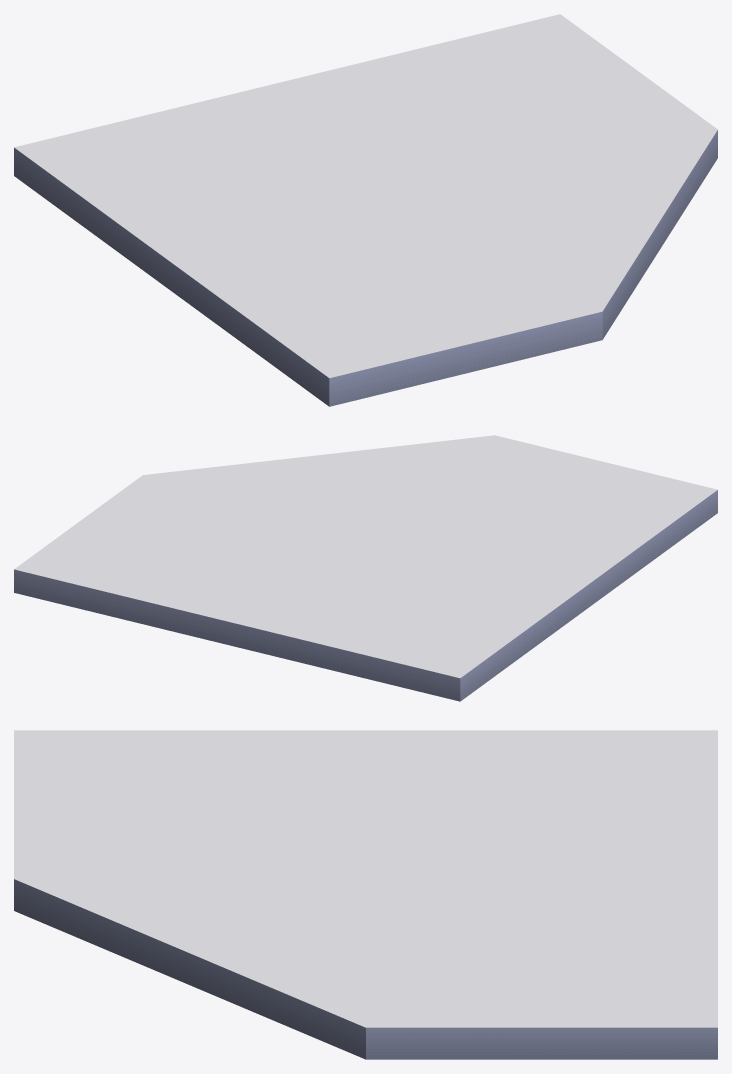
File: architecture.floor.building_floor_corner_diagonal_01.glb
3 renders of one model, top to bottom at view 1: azimuth 30°, elevation 25°; view 2: azimuth 150°, elevation 25°; view 3: azimuth 270°, elevation 25°, orthographic. The views are drawn at different scales.
Visible parts, largest first — view 1: floor-corner-diagonal; view 2: floor-corner-diagonal; view 3: floor-corner-diagonal.
Part boxes in pixels (box(x1,y1,x2,y2)): floor-corner-diagonal: box(14, 14, 717, 406); floor-corner-diagonal: box(14, 435, 717, 701); floor-corner-diagonal: box(14, 730, 717, 1059).
Bounding box in the file's own units: 2 × 0.1 × 2.
1 material, 1 textured.
